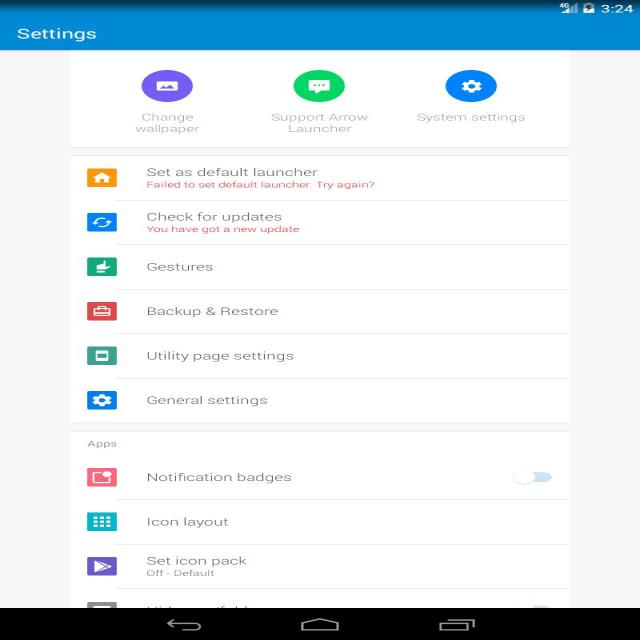button: (80, 502, 564, 544), (78, 157, 564, 195), (80, 202, 564, 239), (81, 248, 563, 284), (82, 294, 562, 329), (80, 460, 564, 493), (78, 550, 562, 583), (82, 384, 564, 415), (82, 342, 562, 372), (410, 58, 529, 136), (261, 58, 378, 136), (124, 58, 210, 142), (511, 468, 563, 487)
heading: (15, 25, 100, 47)
image: (141, 66, 193, 105), (447, 68, 499, 106), (295, 68, 344, 104), (85, 212, 118, 232), (88, 167, 117, 188), (85, 348, 119, 365), (87, 391, 118, 409), (87, 468, 116, 487), (90, 300, 116, 321), (88, 556, 117, 574), (88, 512, 115, 530), (89, 258, 115, 276)
text: (146, 166, 380, 193), (144, 210, 303, 236), (260, 111, 377, 136), (146, 554, 256, 580), (144, 348, 300, 366), (142, 469, 296, 487), (142, 303, 280, 320), (143, 392, 273, 409), (409, 110, 526, 127), (135, 110, 201, 136), (144, 515, 235, 531), (144, 261, 220, 273), (87, 438, 119, 450)
